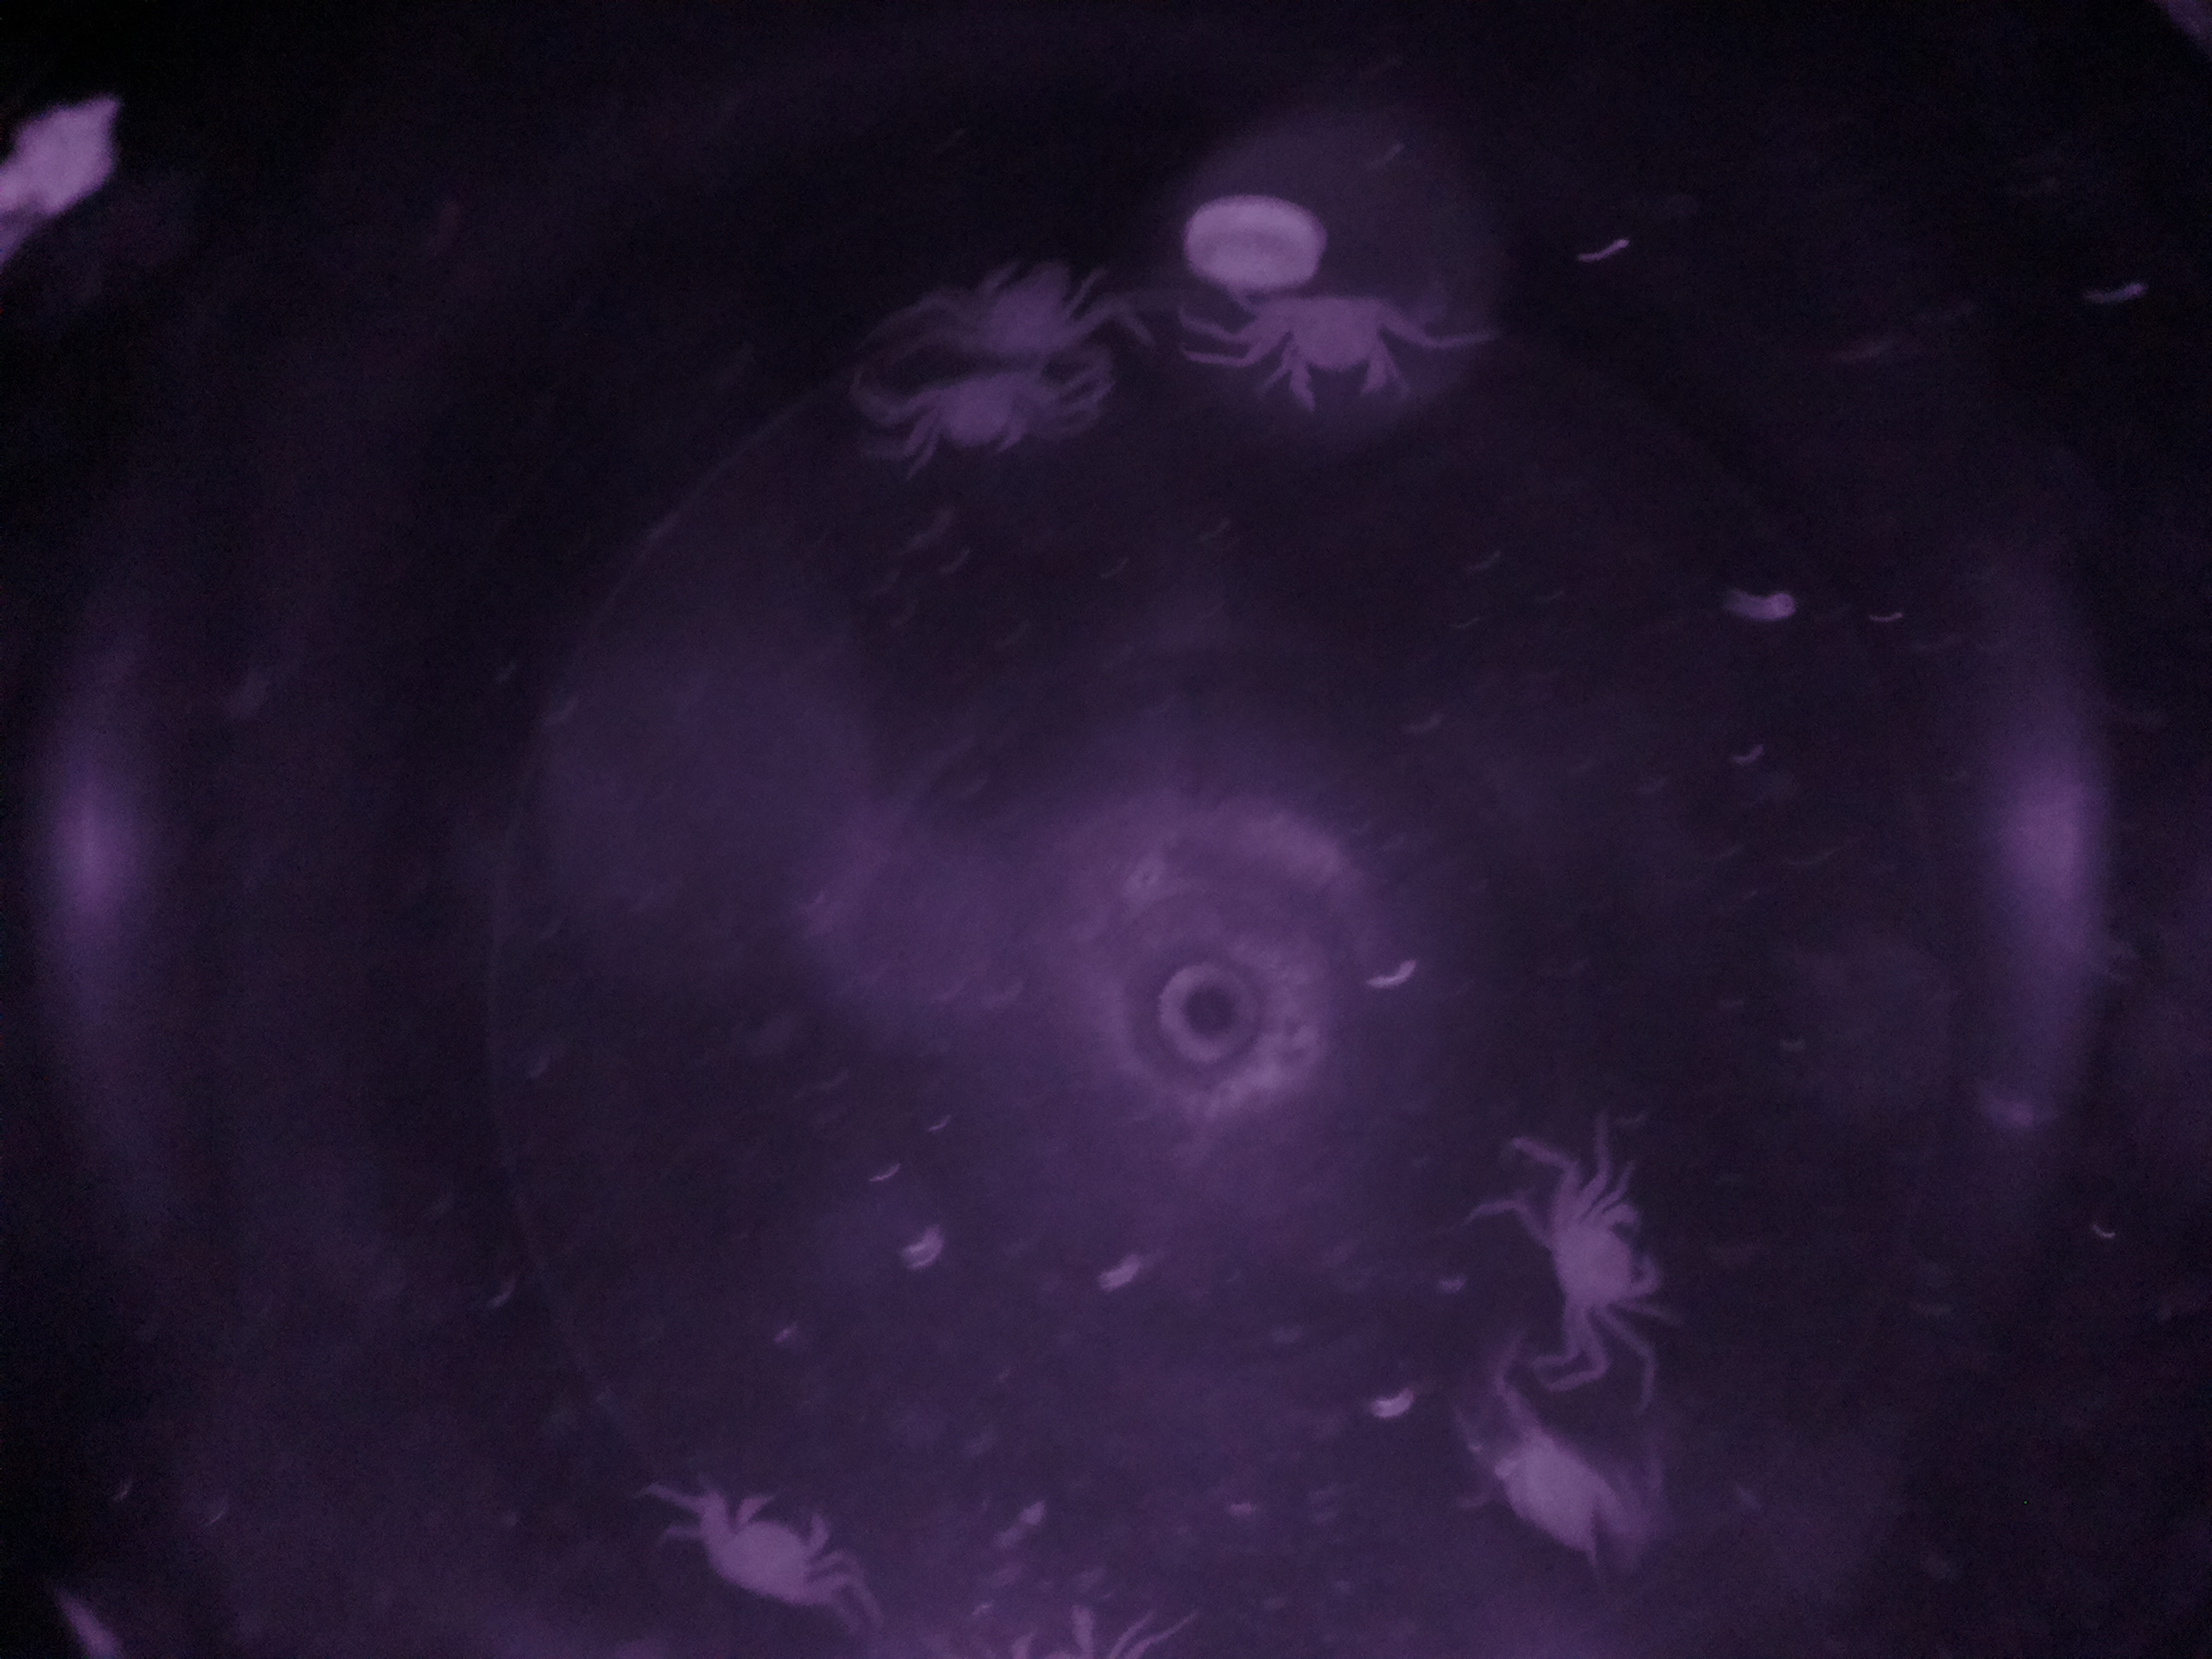Crab: (664, 1471, 869, 1631), (1533, 1169, 1703, 1354), (1252, 258, 1416, 420)
